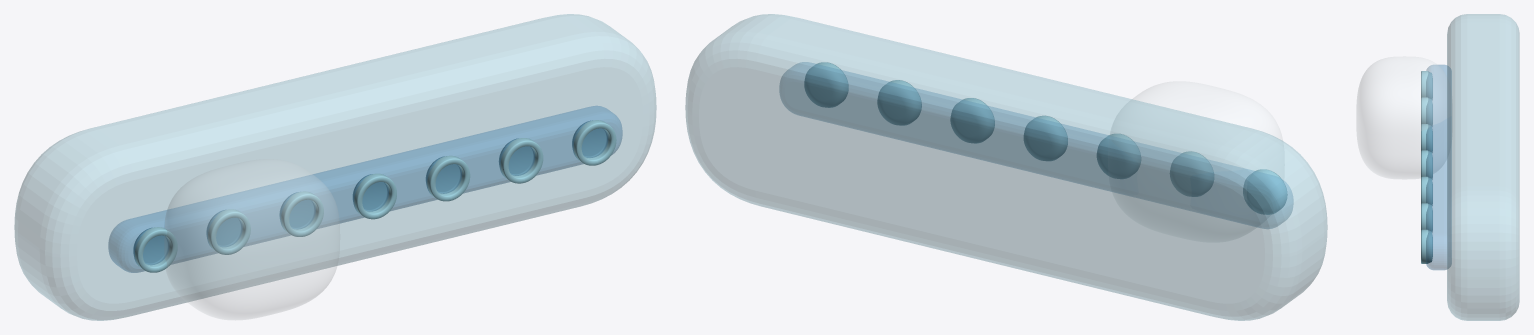
The picture shows the model from 3 angles, left to right: view 1: azimuth 30°, elevation 25°; view 2: azimuth 150°, elevation 25°; view 3: azimuth 270°, elevation 25°; orthographic projection. The views are drawn at different scales.
Visible parts, largest first — view 1: cradle, thumb-0, channel, detent-4, detent-0, detent-6, detent-3, detent-5, detent-1, detent-2; view 2: cradle, channel, thumb-0, detent-5, detent-6, detent-0, detent-4, detent-3, detent-1, detent-2; view 3: cradle, thumb-0, channel, detent-6, detent-4, detent-5, detent-3, detent-1, detent-2, detent-0.
Part boxes in pixels (x1=…): cradle: x1=14, y1=14, x2=656, y2=320; thumb-0: x1=164, y1=159, x2=339, y2=320; channel: x1=108, y1=106, x2=622, y2=272; detent-4: x1=425, y1=155, x2=470, y2=201; detent-0: x1=133, y1=227, x2=177, y2=272; detent-6: x1=572, y1=120, x2=616, y2=165; detent-3: x1=352, y1=173, x2=396, y2=219; detent-5: x1=498, y1=138, x2=543, y2=183; detent-1: x1=206, y1=209, x2=250, y2=254; detent-2: x1=279, y1=191, x2=323, y2=236; cradle: x1=685, y1=14, x2=1327, y2=320; channel: x1=779, y1=62, x2=1293, y2=228; thumb-0: x1=1132, y1=81, x2=1282, y2=140; detent-5: x1=877, y1=80, x2=921, y2=125; detent-6: x1=804, y1=62, x2=848, y2=107; detent-0: x1=1243, y1=169, x2=1287, y2=214; detent-4: x1=950, y1=98, x2=994, y2=143; detent-3: x1=1024, y1=115, x2=1067, y2=160; detent-1: x1=1170, y1=151, x2=1213, y2=196; detent-2: x1=1097, y1=134, x2=1140, y2=178; cradle: x1=1447, y1=14, x2=1519, y2=320; thumb-0: x1=1356, y1=56, x2=1446, y2=179; channel: x1=1426, y1=65, x2=1451, y2=269; detent-6: x1=1421, y1=229, x2=1432, y2=263; detent-4: x1=1421, y1=176, x2=1432, y2=205; detent-5: x1=1421, y1=203, x2=1432, y2=232; detent-3: x1=1421, y1=150, x2=1432, y2=179; detent-1: x1=1421, y1=97, x2=1432, y2=126; detent-2: x1=1421, y1=124, x2=1432, y2=152; detent-0: x1=1421, y1=71, x2=1432, y2=99.
Bounding box in the file's own units: 2.6 × 0.69 × 0.81.
